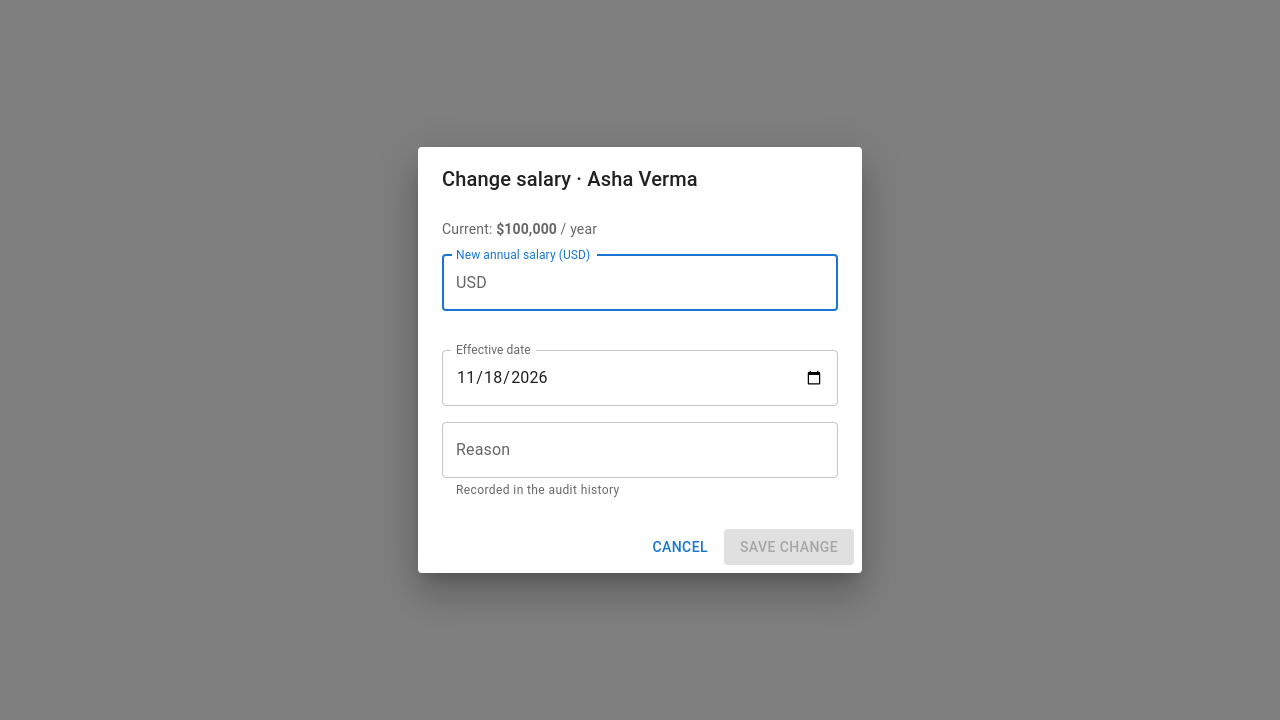
Test: SalaryChangeDialog › surfaces server validation errors without closing
Step 1. Type "110000" into the field labelled "New annual salary (USD)" → (666, 283), box [495,255,838,311]
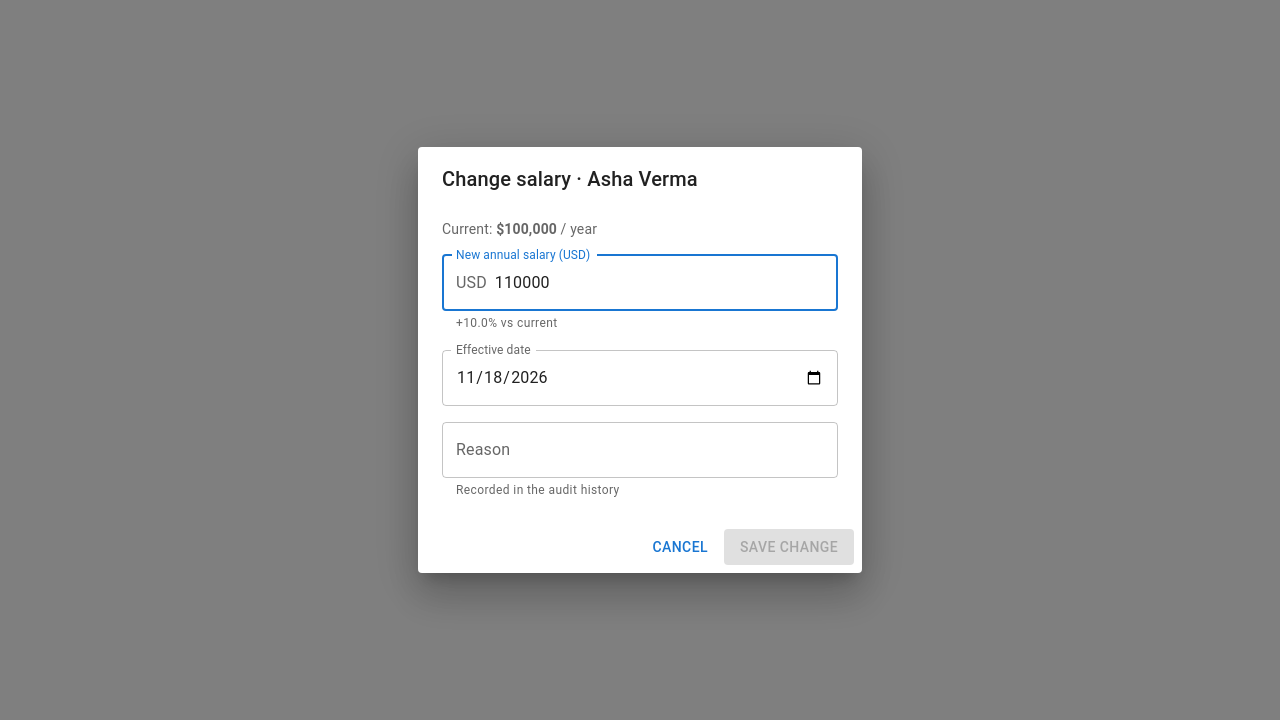
Step 2. Type "Promotion" into the field labelled "Reason" → (640, 450), box [442,422,838,478]
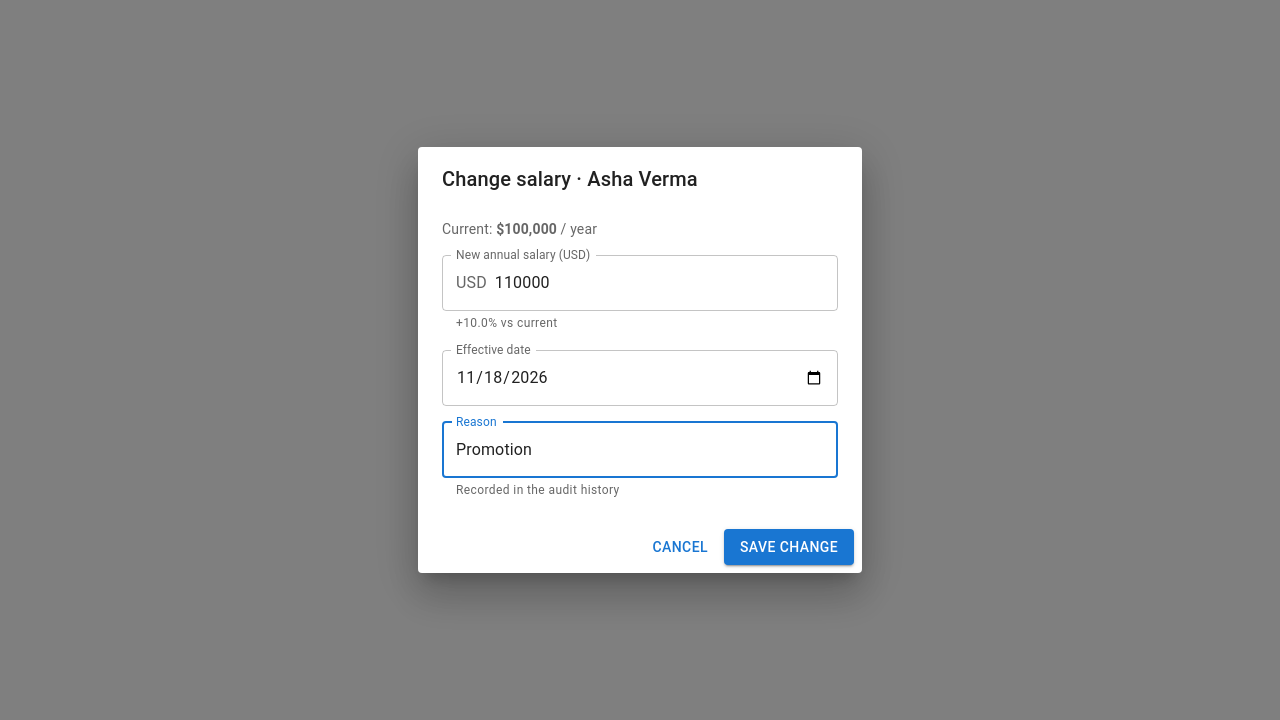
Step 3. Click the button "Save change" → (789, 547), box [724,529,854,565]
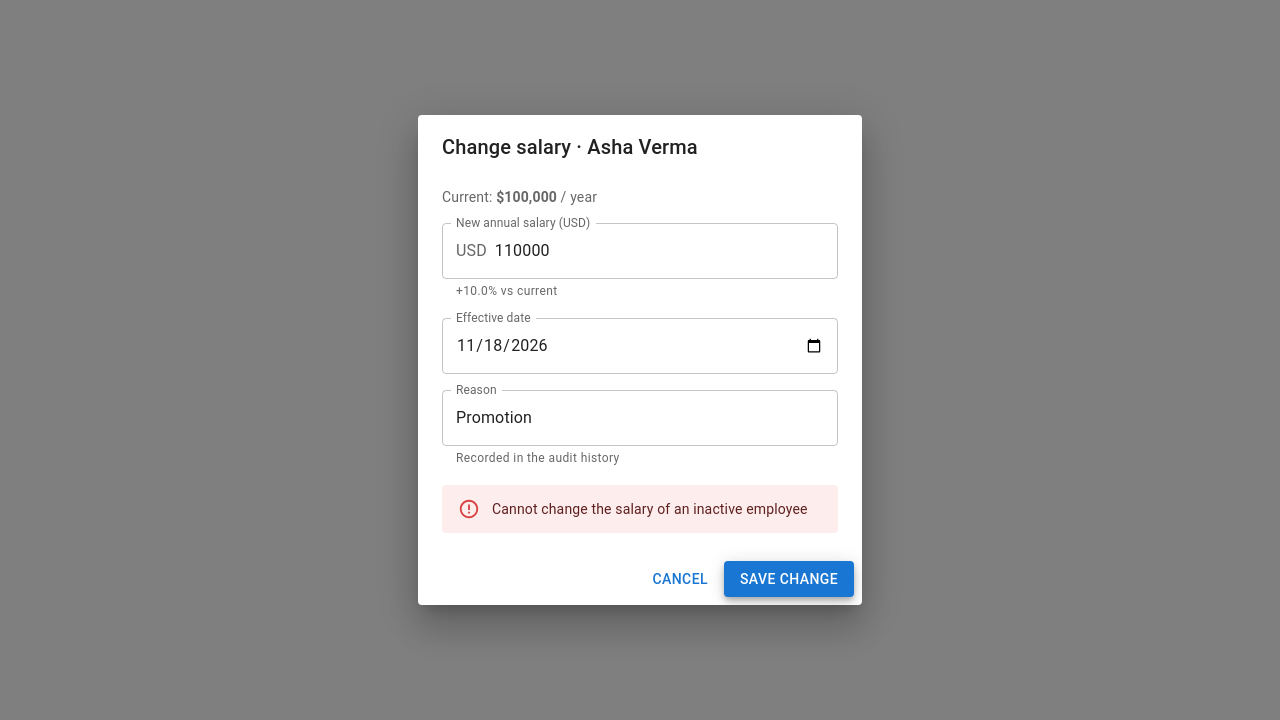
Expected: the text "Cannot change the salary of an inactive employee" is shown, [492,501,808,517]
